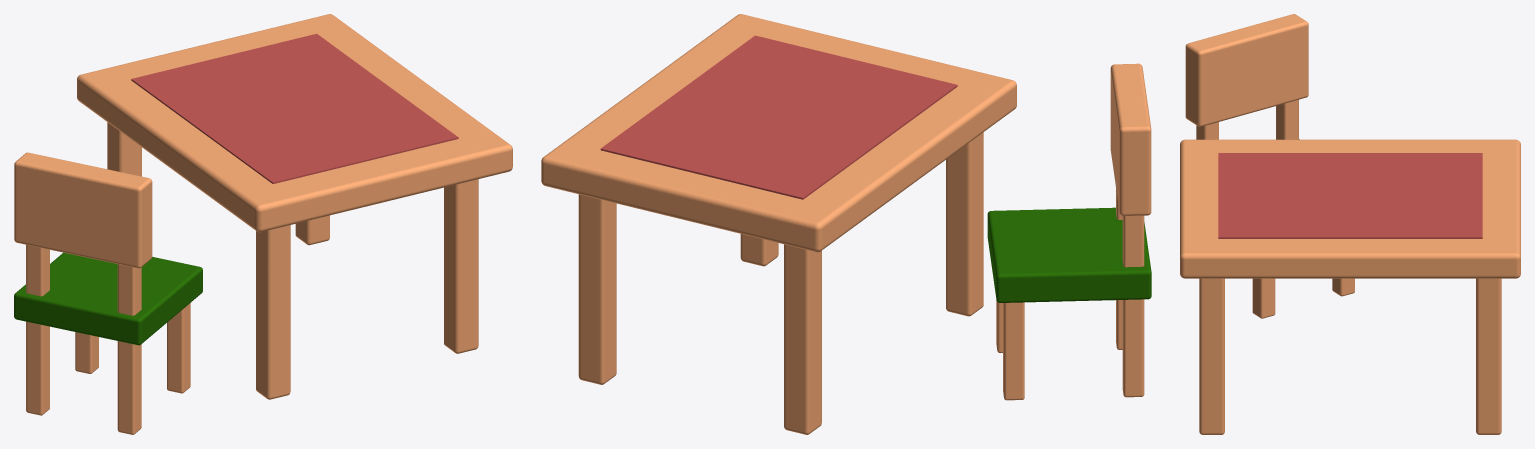
Rendered from desk_chair.glb.
3 views of the same model, side by side, from view 1: azimuth 30°, elevation 25°; view 2: azimuth 150°, elevation 25°; view 3: azimuth 270°, elevation 25° (orthographic). The views are drawn at different scales.
Parts seen in each view (by area): view 1: 立方体, 立方体.005, 立方体.006, 立方体.001, 立方体.003, 立方体.008, 立方体.007, 立方体.010, 立方体.004, 立方体.009, 立方体.002; view 2: 立方体, 立方体.006, 立方体.002, 立方体.004, 立方体.001, 立方体.005, 立方体.007, 立方体.009, 立方体.003; view 3: 立方体, 立方体.005, 立方体.002, 立方体.003, 立方体.010, 立方体.007, 立方体.009, 立方体.008.
Part boxes in pixels (left/top/right/bottom): 立方体: left=77, top=14, right=512, bottom=232; 立方体.005: left=14, top=152, right=152, bottom=268; 立方体.006: left=14, top=252, right=202, bottom=345; 立方体.001: left=256, top=225, right=290, bottom=399; 立方体.003: left=444, top=179, right=478, bottom=353; 立方体.008: left=117, top=264, right=141, bottom=434; 立方体.007: left=26, top=244, right=49, bottom=415; 立方体.010: left=167, top=303, right=190, bottom=393; 立方体.004: left=107, top=122, right=141, bottom=176; 立方体.009: left=75, top=332, right=98, bottom=373; 立方体.002: left=295, top=215, right=329, bottom=245; 立方体: left=541, top=14, right=1016, bottom=252; 立方体.006: left=987, top=207, right=1151, bottom=302; 立方体.002: left=578, top=194, right=616, bottom=384; 立方体.004: left=784, top=244, right=821, bottom=434; 立方体.001: left=946, top=132, right=983, bottom=316; 立方体.005: left=1110, top=63, right=1151, bottom=215; 立方体.007: left=1122, top=215, right=1144, bottom=397; 立方体.009: left=1003, top=302, right=1024, bottom=400; 立方体.003: left=740, top=234, right=778, bottom=266; 立方体: left=1180, top=139, right=1520, bottom=278; 立方体.005: left=1185, top=14, right=1308, bottom=126; 立方体.002: left=1476, top=278, right=1501, bottom=434; 立方体.003: left=1199, top=278, right=1224, bottom=434; 立方体.010: left=1252, top=278, right=1275, bottom=318; 立方体.007: left=1276, top=99, right=1298, bottom=139; 立方体.009: left=1332, top=278, right=1354, bottom=296; 立方体.008: left=1196, top=122, right=1218, bottom=139.
Size of what is drawn, in the model's own units: 3.42 by 1.87 by 2.47.
